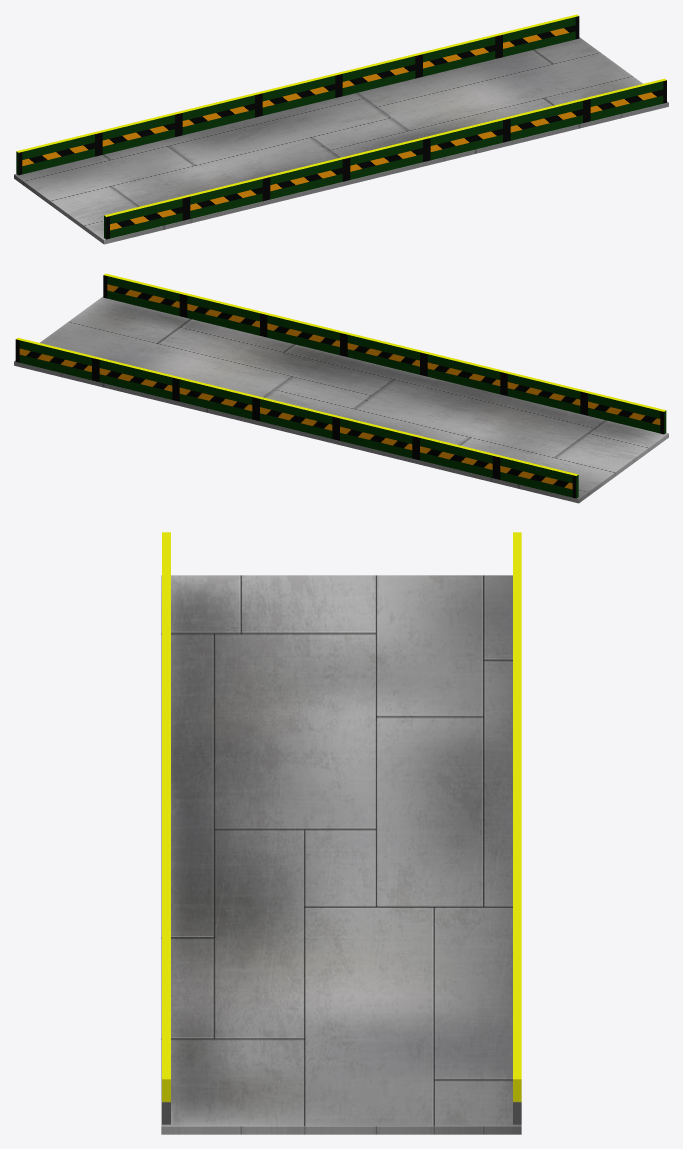
File: Road.fbx
3 views of the same model, one above another, from view 1: azimuth 30°, elevation 25°; view 2: azimuth 150°, elevation 25°; view 3: azimuth 270°, elevation 25° (orthographic). The views are drawn at different scales.
Parts seen in each view (by area): view 1: 平面, 立方体; view 2: 平面, 立方体; view 3: 平面, 立方体.
Part boxes in pixels (x1,y1,x2,y2): 平面: (14, 37, 668, 244); 立方体: (16, 14, 666, 239); 平面: (14, 296, 668, 503); 立方体: (15, 273, 666, 498); 平面: (161, 575, 521, 1134); 立方体: (162, 532, 521, 1124).
Size of the model in its own units: 1426 by 64.7 by 394.
2 materials, 2 textured.
